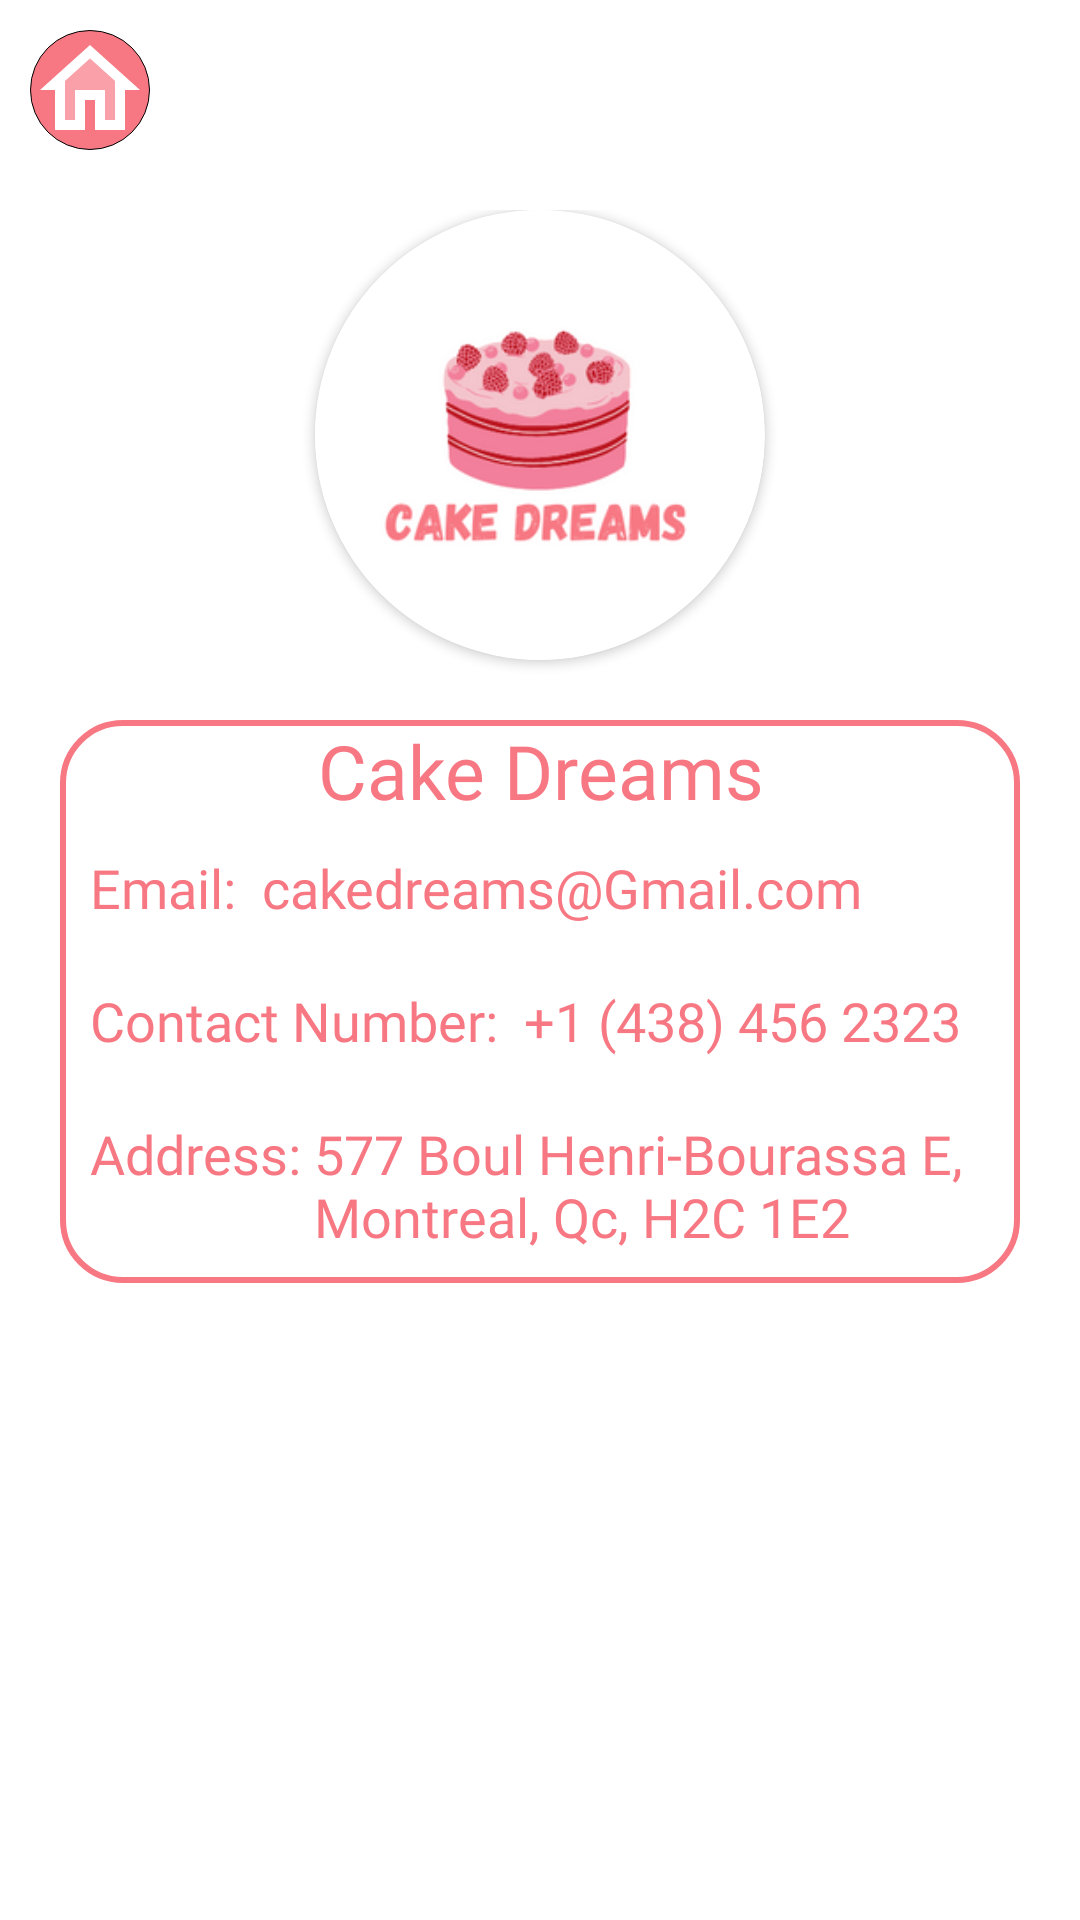

Icon click points for this 1080w x 1920h phone screenshot, format point (x, y):
home: point (90, 90)
